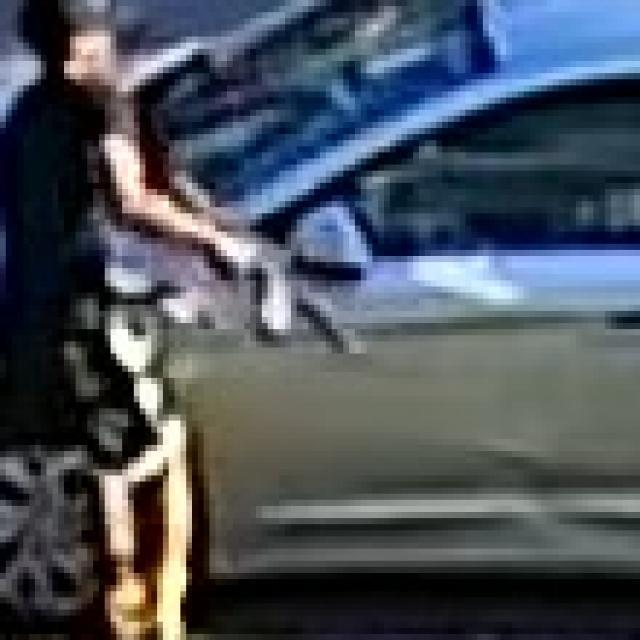weapon: (170, 174, 373, 367)
